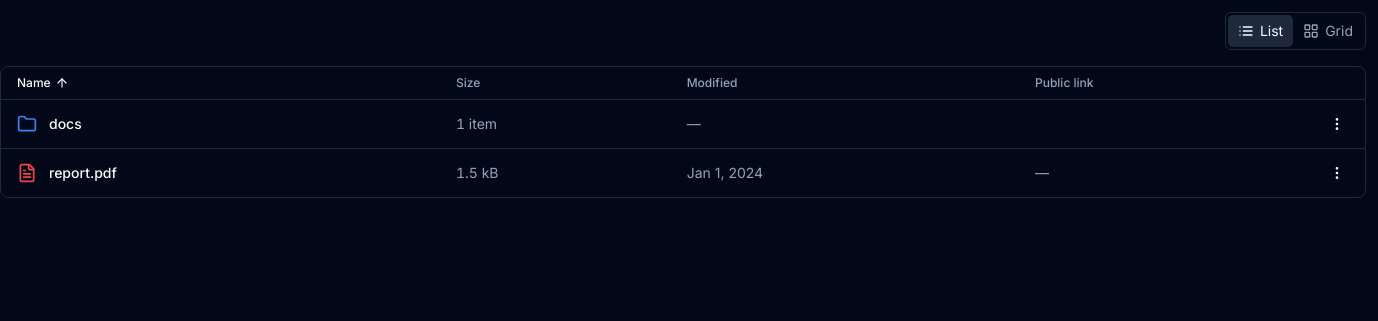
Test: FileBrowser › labels folder deletion as permanent
The image size is (1378, 321).
Click the button named "Actions for docs" at (1337, 124), box [1317,104,1357,144]
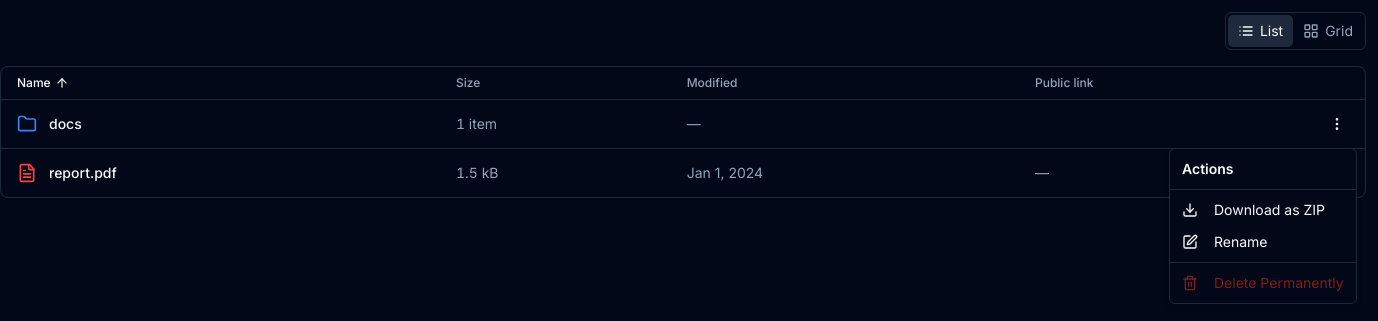
Result: the menu item "Delete Permanently" is shown at [1182,274,1344,291]
